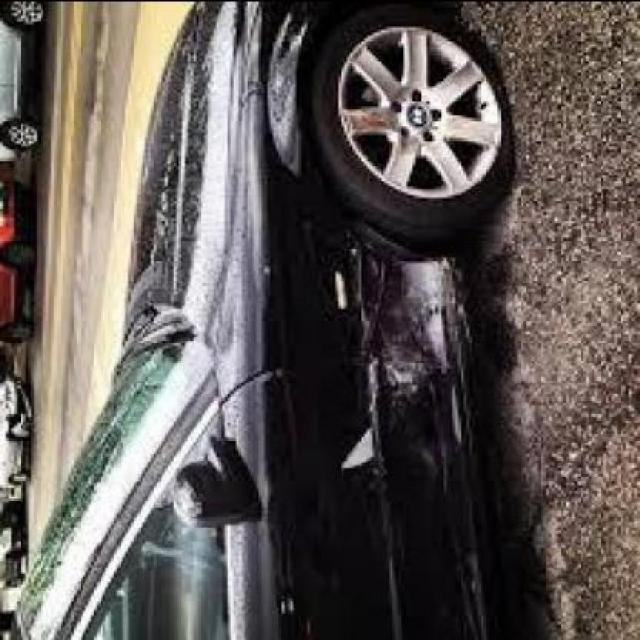damage: (328, 214, 474, 485)
